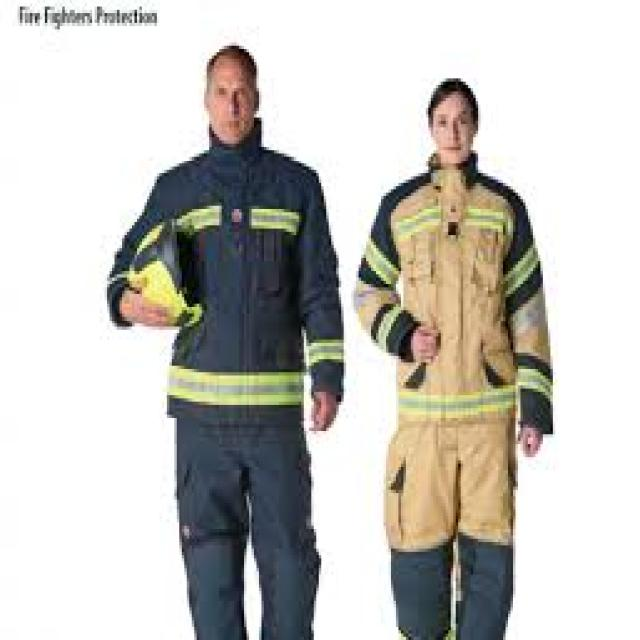vest: (102, 127, 344, 640), (354, 150, 556, 640)
